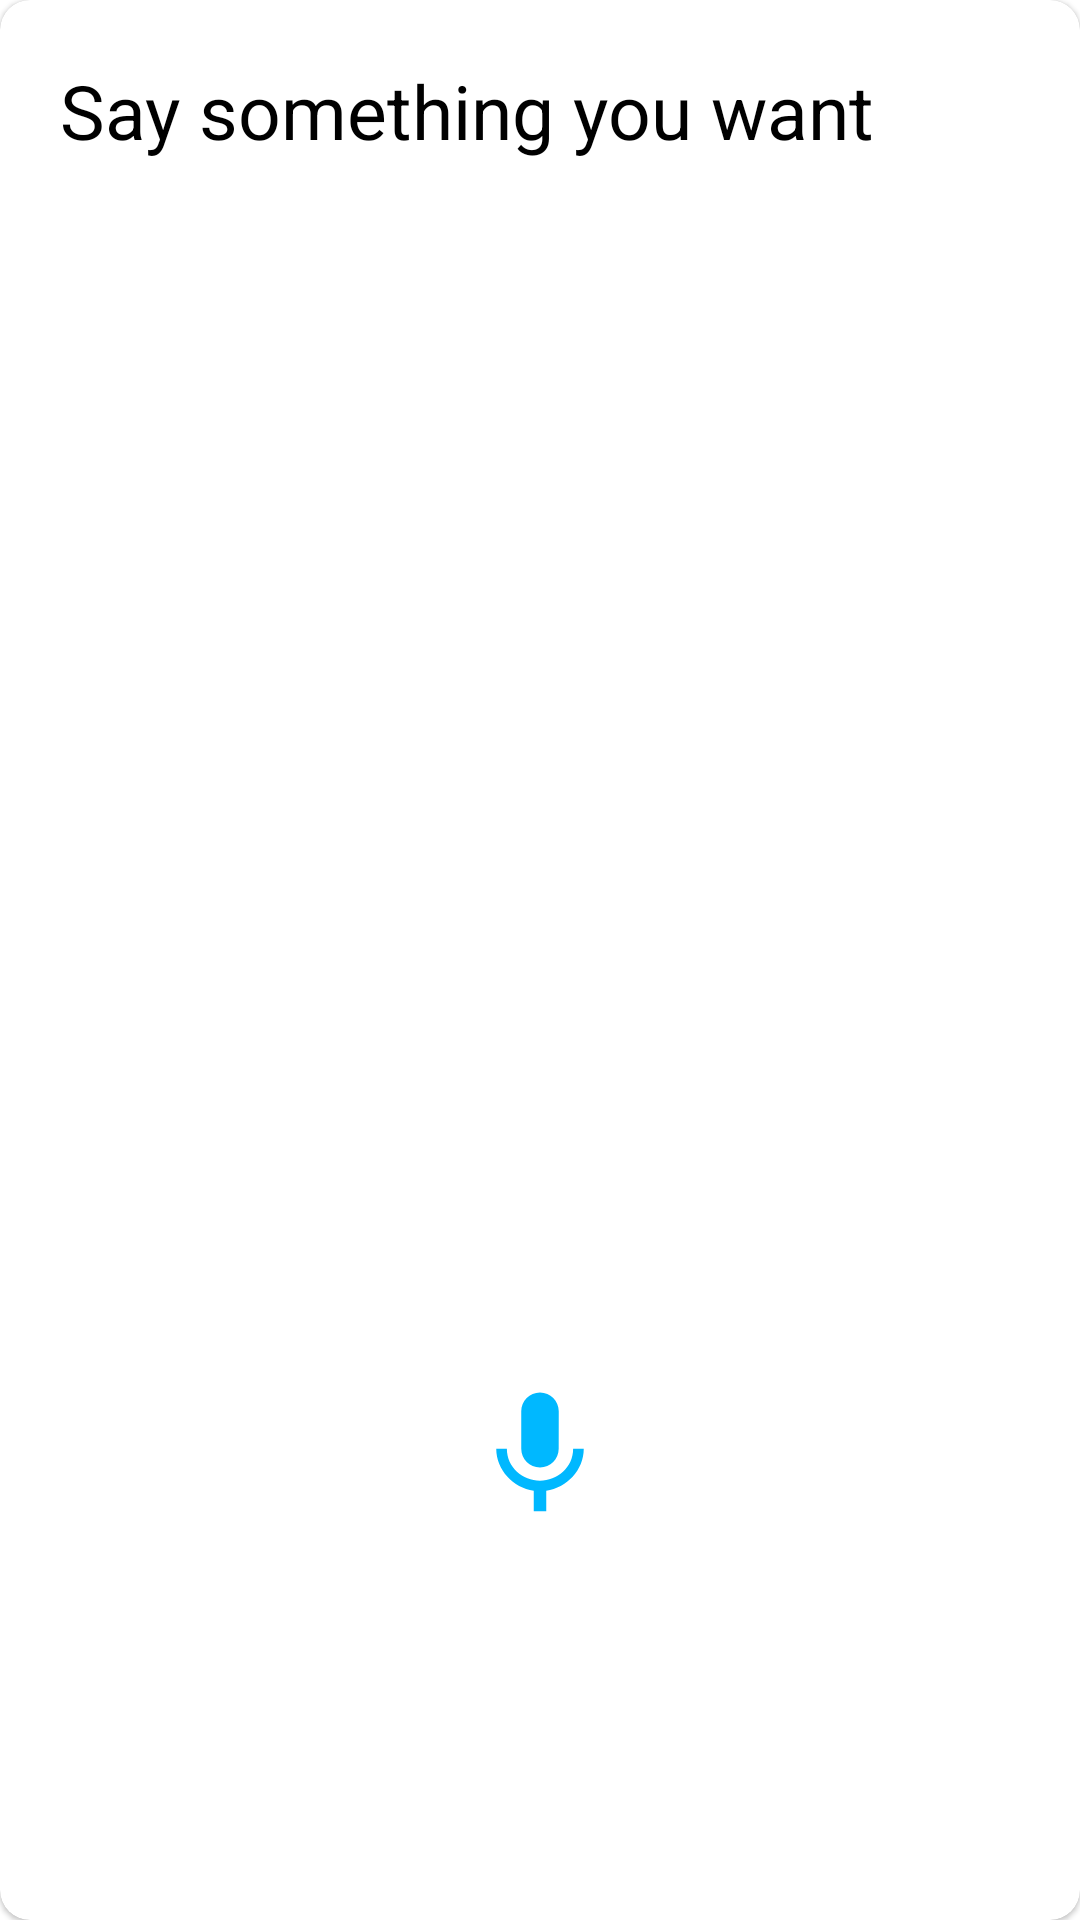

Where icons sit on this 1080x1920 app screen, as detection(x1, y1, x2, y2):
mic: detection(496, 1392, 584, 1512)
